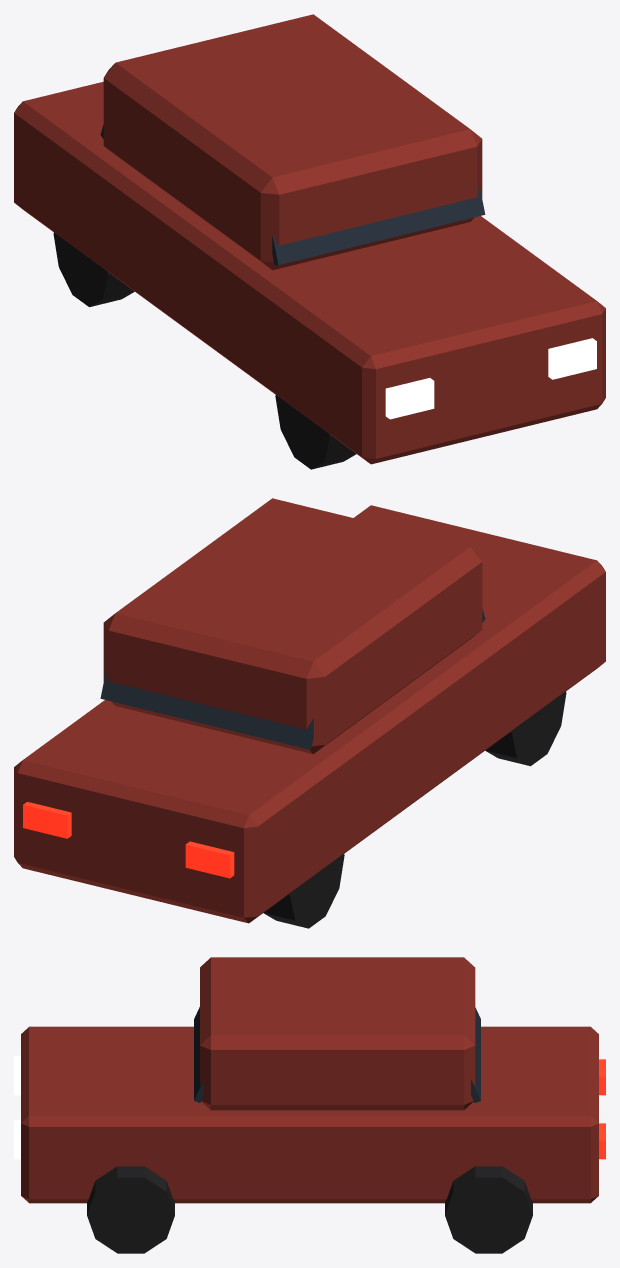
File: car_a.glb
The picture shows the model from 3 angles, top to bottom: view 1: azimuth 30°, elevation 25°; view 2: azimuth 150°, elevation 25°; view 3: azimuth 270°, elevation 25°; orthographic projection. The views are drawn at different scales.
Visible parts, largest first — view 1: car_a; view 2: car_a; view 3: car_a.
Part boxes in pixels (x1,y1,x2,y2): car_a: [14, 14, 605, 469]; car_a: [14, 498, 605, 928]; car_a: [14, 957, 605, 1253].
Size of the model in its own units: 1.85 by 1.58 by 4.3.
